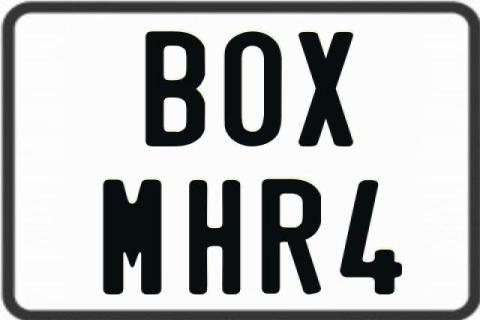0: (338, 179, 403, 293), (224, 30, 285, 146)
B: (144, 29, 203, 144)
H: (189, 178, 241, 294)
M: (101, 178, 165, 294)
R: (260, 179, 322, 297)
X: (297, 32, 354, 150)
